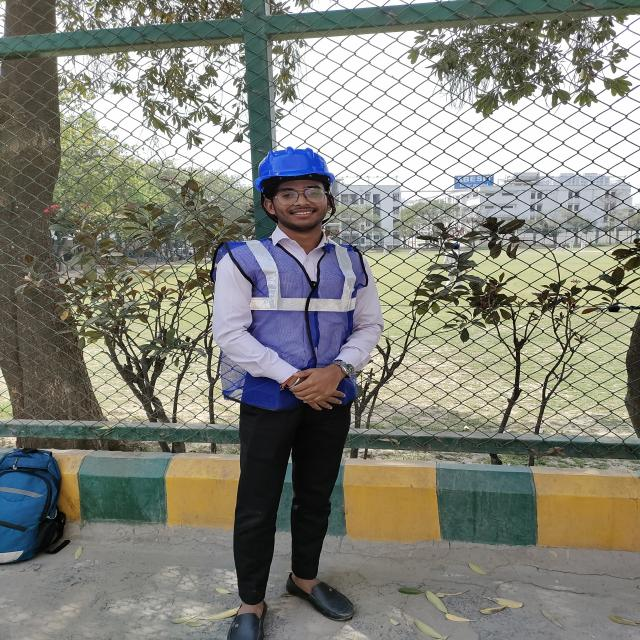safe: (210, 146, 377, 640)
